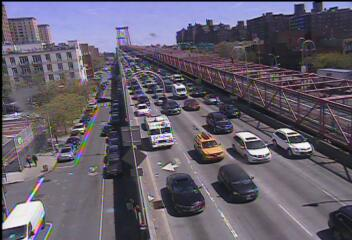neg: (79, 46, 93, 65)
pos: (30, 152, 41, 166)
